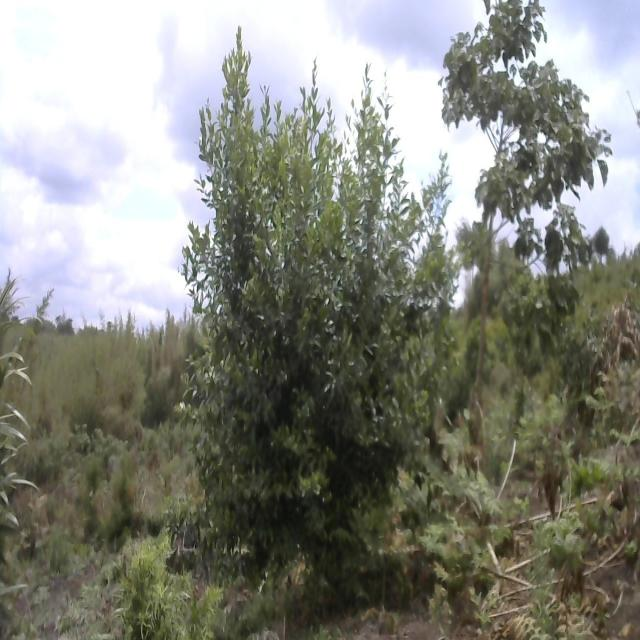Croton machrostychus: (438, 5, 618, 423)
Olea europea -africana-: (189, 32, 457, 581)
